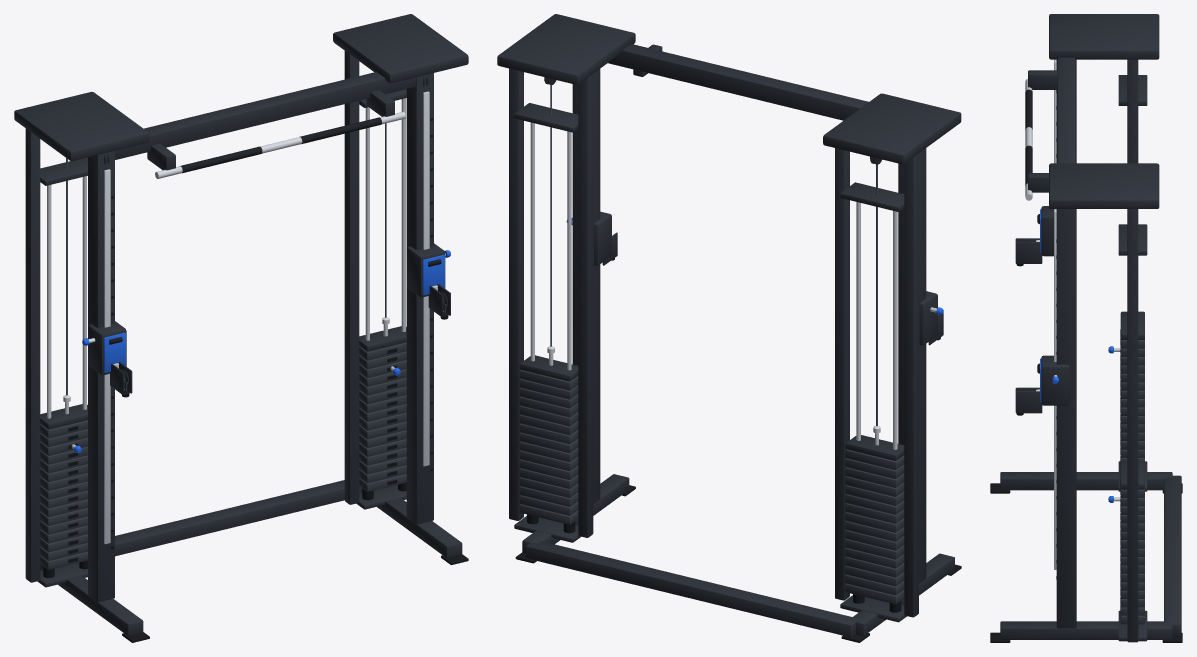
File: dual-adjustable-pulley.glb
The picture shows the model from 3 angles, left to right: view 1: azimuth 30°, elevation 25°; view 2: azimuth 150°, elevation 25°; view 3: azimuth 270°, elevation 25°; orthographic projection. The views are drawn at different scales.
Visible parts, largest first — view 1: frame.frame, frame.chrome, stack_R.stack, stack_L.stack, pullup_bar.grip, pullup_bar.frame, frame.rubber, carriage_L.frame, carriage_R.frame, frame.cable, stack_L.frame, stack_R.frame (+5 smaller); view 2: frame.frame, stack_R.stack, stack_L.stack, frame.chrome, frame.cable, stack_L.frame, stack_R.frame, frame.rubber, carriage_R.frame, carriage_L.frame; view 3: frame.frame, stack_L.stack, stack_R.stack, carriage_L.frame, frame.chrome, pullup_bar.frame, pulley_L.frame, pulley_R.frame, carriage_R.frame, pullup_bar.grip, frame.rubber, stack_L.frame (+2 smaller).
Part boxes in pixels (<box>): frame.frame: <box>14,14,468,635</box>; frame.chrome: <box>47,91,429,544</box>; stack_R.stack: <box>40,420,87,569</box>; stack_L.stack: <box>359,342,406,491</box>; pullup_bar.grip: <box>180,117,381,173</box>; pullup_bar.frame: <box>147,90,394,170</box>; frame.rubber: <box>43,118,468,642</box>; carriage_L.frame: <box>406,243,445,297</box>; carriage_R.frame: <box>88,321,126,375</box>; frame.cable: <box>66,123,386,395</box>; stack_L.frame: <box>359,326,406,351</box>; stack_R.frame: <box>40,404,87,429</box>; frame.frame: <box>497,14,961,637</box>; stack_R.stack: <box>845,449,904,604</box>; stack_L.stack: <box>519,370,578,524</box>; frame.chrome: <box>530,122,897,449</box>; frame.cable: <box>550,85,877,425</box>; stack_L.frame: <box>519,355,578,381</box>; stack_R.frame: <box>845,435,904,460</box>; frame.rubber: <box>515,485,961,642</box>; carriage_R.frame: <box>919,291,937,345</box>; carriage_L.frame: <box>594,211,611,265</box>; frame.frame: <box>1000,14,1181,642</box>; stack_L.stack: <box>1120,488,1144,624</box>; stack_R.stack: <box>1120,339,1144,461</box>; carriage_L.frame: <box>1041,355,1069,405</box>; frame.chrome: <box>1054,59,1056,569</box>; pullup_bar.frame: <box>1028,70,1057,192</box>; pulley_L.frame: <box>1015,387,1042,413</box>; pulley_R.frame: <box>1015,238,1042,263</box>; carriage_R.frame: <box>1041,206,1053,256</box>; pullup_bar.grip: <box>1025,89,1032,185</box>; frame.rubber: <box>990,90,1182,642</box>; stack_L.frame: <box>1120,461,1144,489</box>.
Size of the model in its own units: 2 by 2.29 by 0.87.
